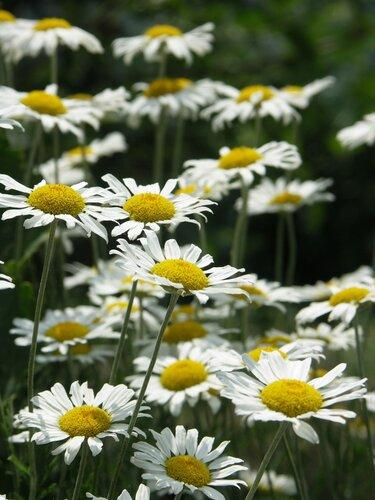chamomile: (111, 238, 250, 310), (22, 382, 135, 452), (237, 363, 343, 427), (97, 181, 203, 236), (191, 137, 296, 192), (13, 175, 99, 232), (135, 346, 225, 400), (119, 74, 203, 124), (216, 82, 303, 129), (15, 15, 96, 61), (115, 25, 216, 58), (30, 313, 107, 355), (4, 92, 87, 130), (252, 183, 316, 216), (234, 284, 311, 306), (329, 290, 375, 314)
